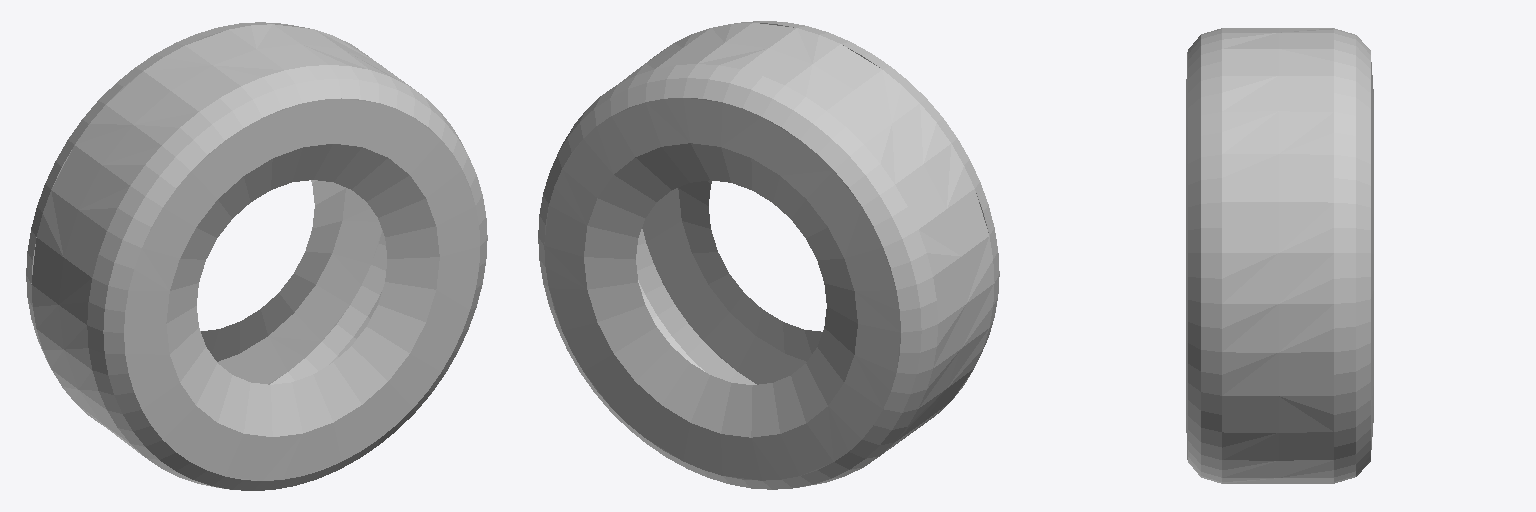
File: Tire.obj
3 views of the same model, side by side, from view 1: azimuth 30°, elevation 25°; view 2: azimuth 150°, elevation 25°; view 3: azimuth 270°, elevation 25° (orthographic).
Parts seen in each view (by area): view 1: loftedSurface1; view 2: loftedSurface1; view 3: loftedSurface1.
Boxes of the visible parts, x1=… form: loftedSurface1: x1=26, y1=22, x2=487, y2=490; loftedSurface1: x1=538, y1=21, x2=999, y2=489; loftedSurface1: x1=1186, y1=28, x2=1373, y2=483.
Size of the model in its own units: 4.15 by 4.15 by 1.71.